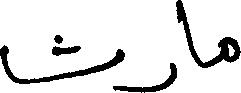X: (0, 30, 122, 92), (177, 0, 195, 66), (141, 58, 175, 92), (222, 32, 240, 67)
